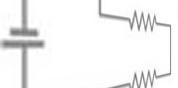resistor: (120, 4, 163, 38), (119, 62, 160, 87)
